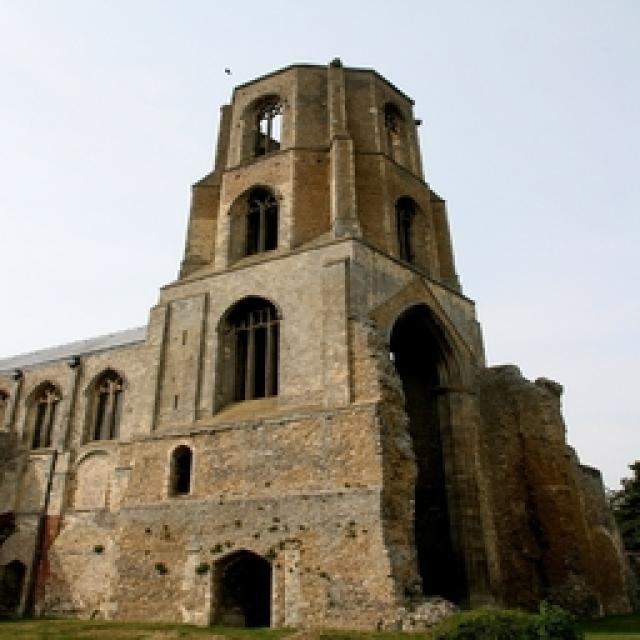Abbey: (363, 267, 509, 601)
